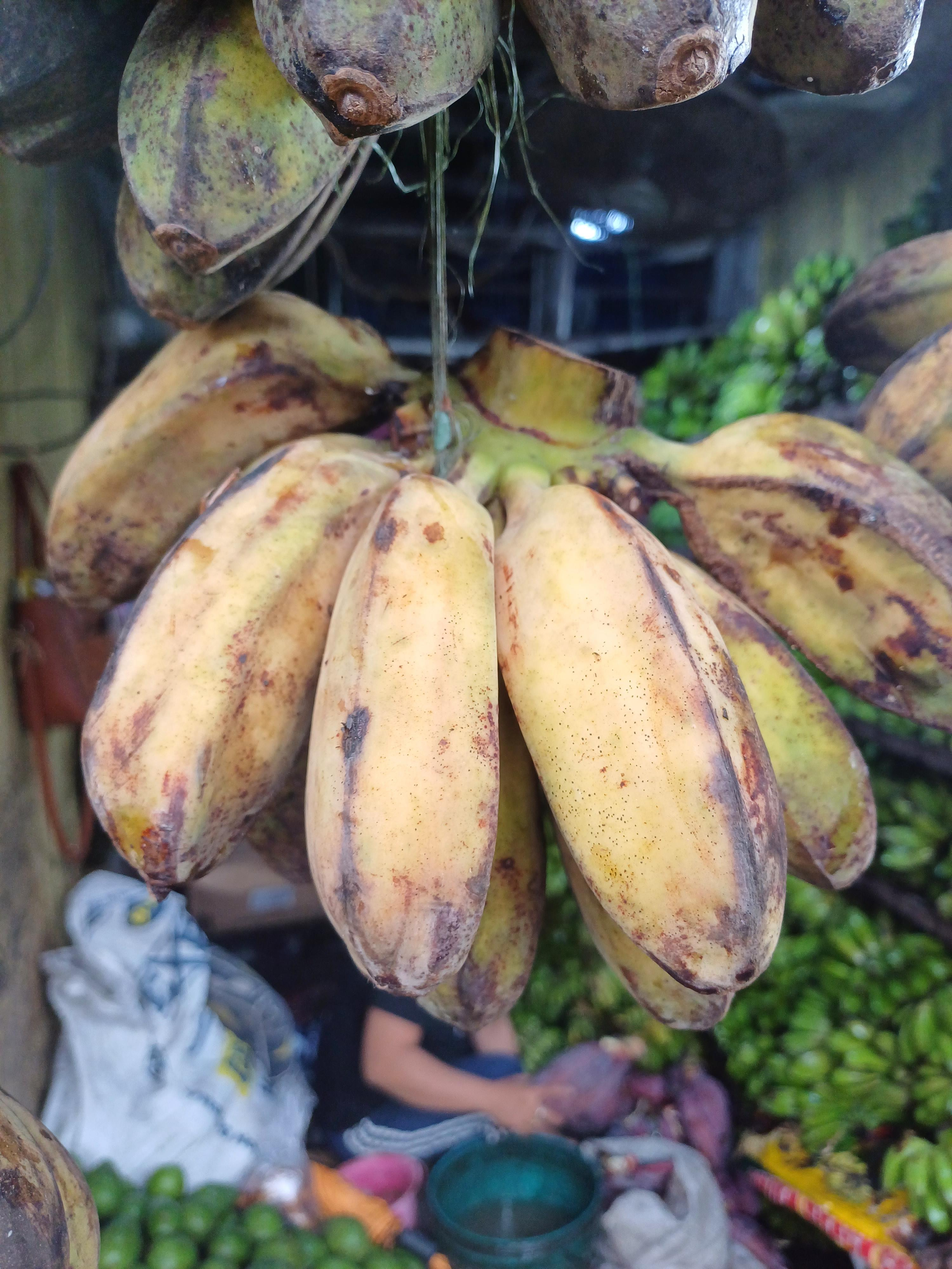ripe: (47, 293, 952, 1028)
underripe: (116, 0, 930, 325)
